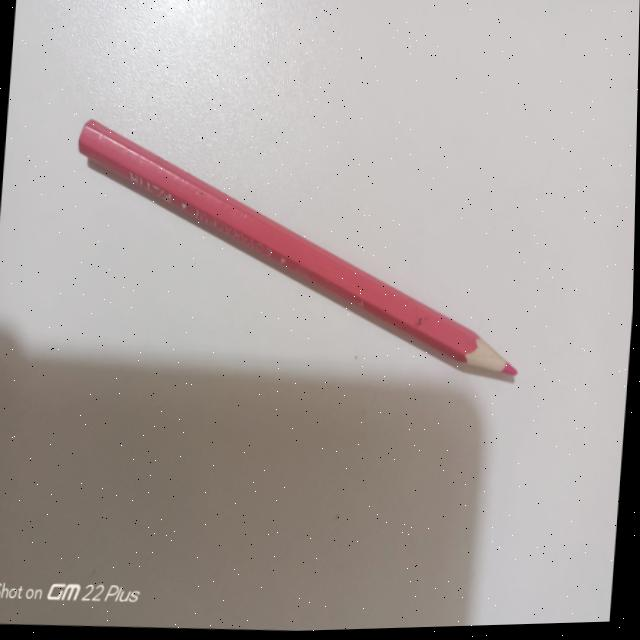pencil: (67, 108, 529, 404)
